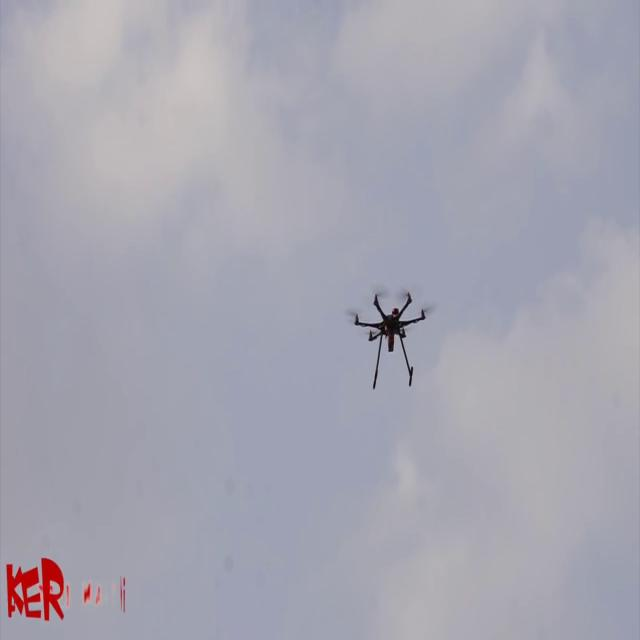drone: (346, 281, 439, 403)
